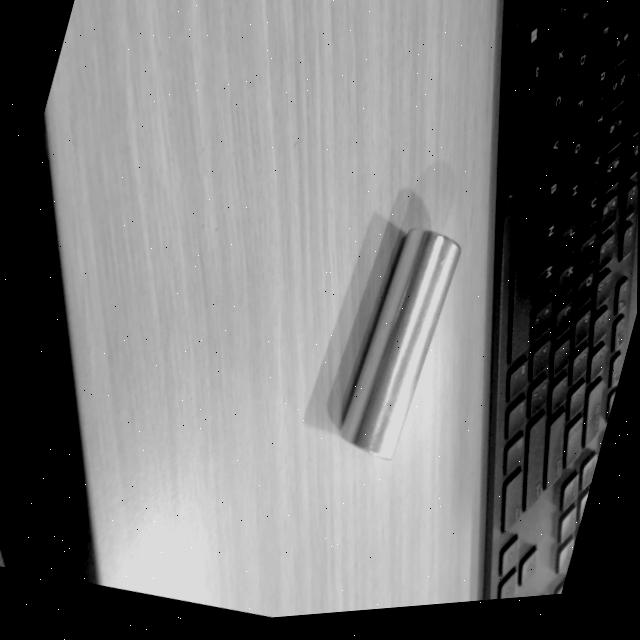Co_Lon: (334, 222, 463, 460)
